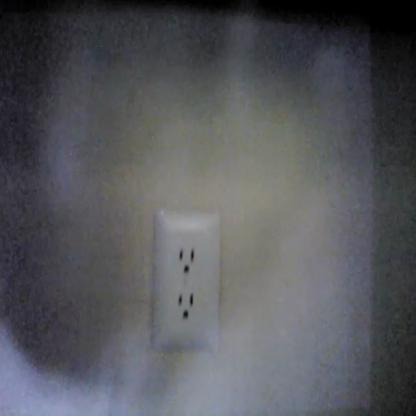OUTLET: (151, 210, 218, 354)
